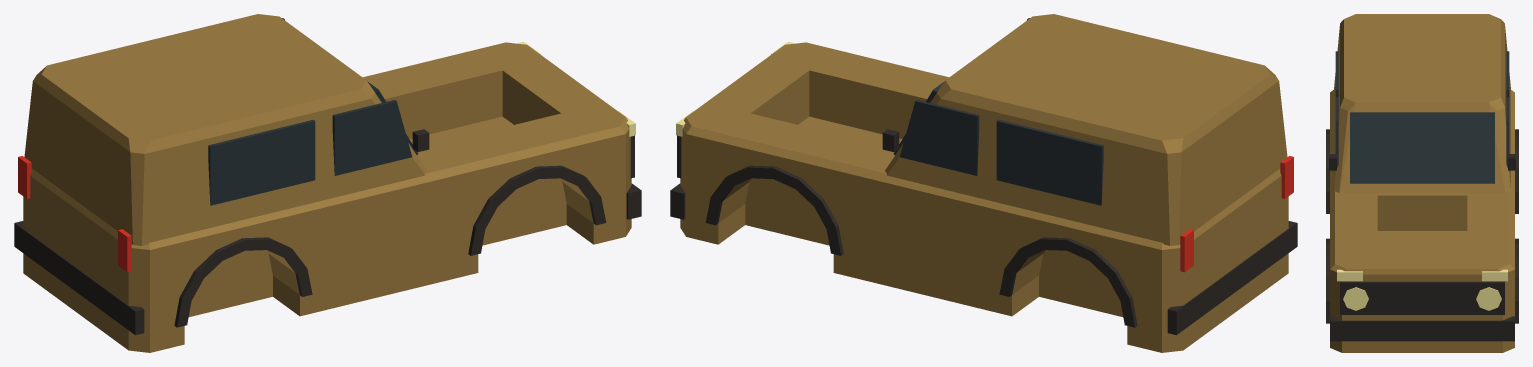
The model's file is base_niva.glb.
3 renders of one model, left to right at view 1: azimuth 30°, elevation 25°; view 2: azimuth 150°, elevation 25°; view 3: azimuth 270°, elevation 25°, orthographic. The views are drawn at different scales.
Visible parts, largest first — view 1: base_niva; view 2: base_niva; view 3: base_niva.
Boxes of the visible parts, x1,y1,x2,y2 form: base_niva: (14,14,641,352); base_niva: (670,14,1297,352); base_niva: (1326,14,1518,352).
Size of the model in its own units: 4.51 by 1.72 by 1.94.
